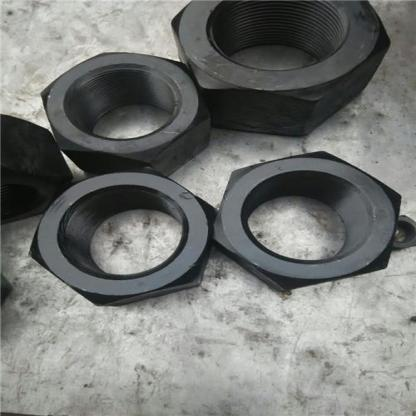FOD: (169, 0, 392, 138), (212, 148, 404, 295), (26, 171, 219, 310), (40, 48, 208, 180)
